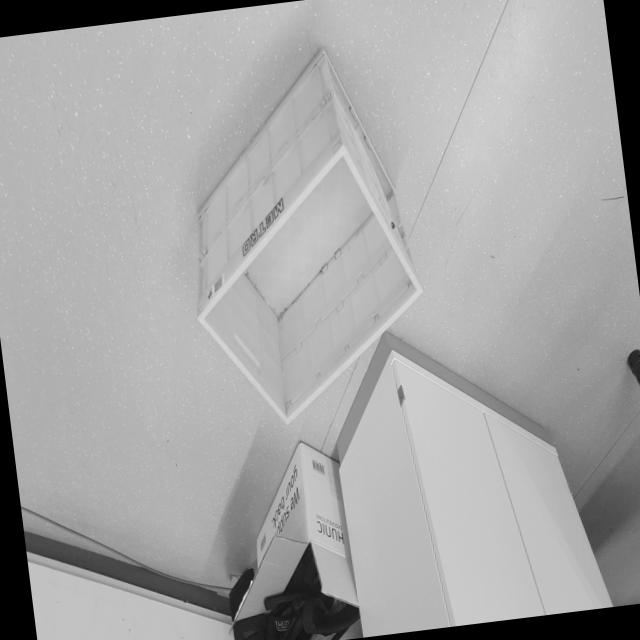box: (161, 29, 452, 444)
